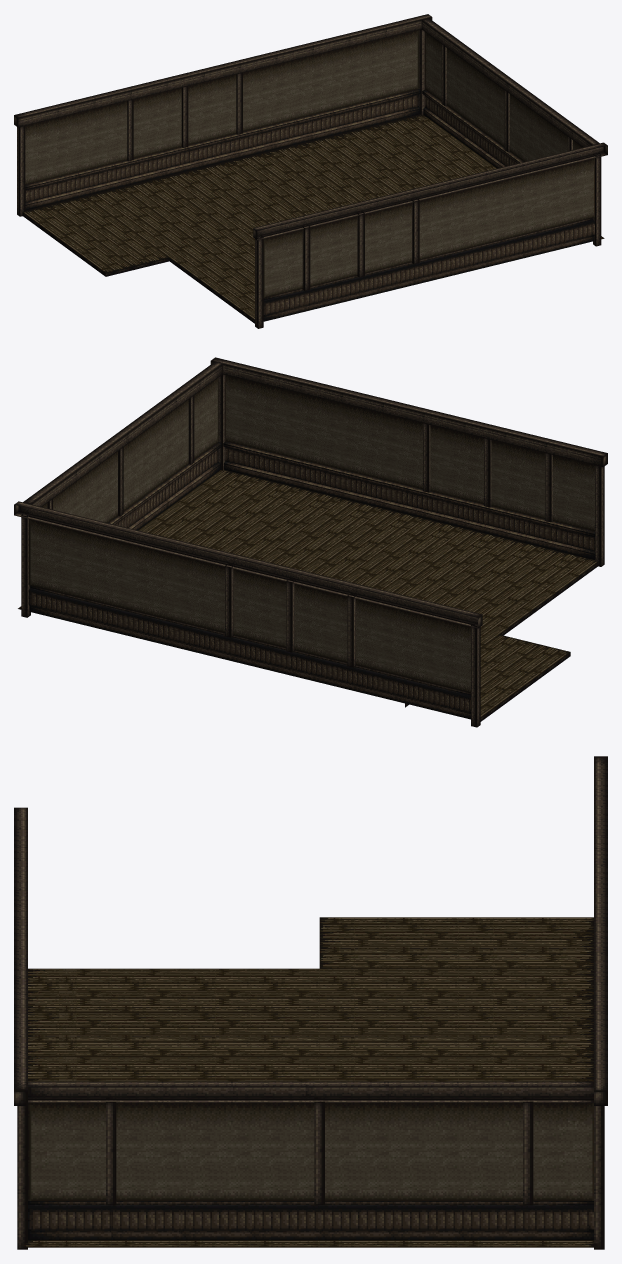
Rendered from EnvBdgMD_WoodHouse_A_Indoor_House_Inventor.FBX.
The picture shows the model from 3 angles, top to bottom: view 1: azimuth 30°, elevation 25°; view 2: azimuth 150°, elevation 25°; view 3: azimuth 270°, elevation 25°; orthographic projection. The views are drawn at different scales.
Visible parts, largest first — view 1: EnvBdgMD_WoodHouse_A_Indoor_House_Inventor; view 2: EnvBdgMD_WoodHouse_A_Indoor_House_Inventor; view 3: EnvBdgMD_WoodHouse_A_Indoor_House_Inventor.
Part boxes in pixels (x1,y1,x2,y2): EnvBdgMD_WoodHouse_A_Indoor_House_Inventor: (14,14,607,328); EnvBdgMD_WoodHouse_A_Indoor_House_Inventor: (14,357,607,727); EnvBdgMD_WoodHouse_A_Indoor_House_Inventor: (14,756,607,1249).
Size of the model in its own units: 2275 by 520 by 1710.
Materials: 1 (1 with a texture image).
